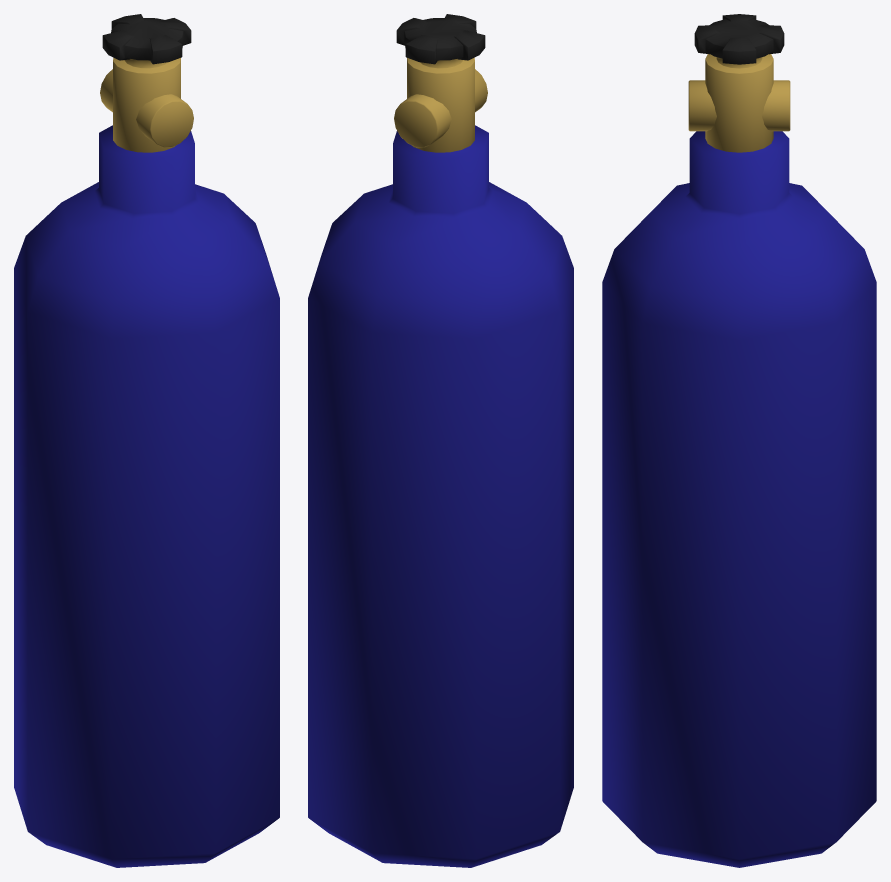
File: O2Tank.fbx
3 renders of one model, left to right at view 1: azimuth 30°, elevation 25°; view 2: azimuth 150°, elevation 25°; view 3: azimuth 270°, elevation 25°, orthographic.
Visible parts, largest first — view 1: Cylinder, Cylinder.001, Cylinder.002; view 2: Cylinder, Cylinder.001, Cylinder.002; view 3: Cylinder, Cylinder.001, Cylinder.002.
Part boxes in pixels (box(x1,y1,x2,y2)): Cylinder: box(14, 125, 279, 867); Cylinder.001: box(102, 14, 191, 152); Cylinder.002: box(100, 69, 193, 147); Cylinder: box(308, 125, 573, 867); Cylinder.001: box(396, 14, 485, 152); Cylinder.002: box(394, 69, 487, 147); Cylinder: box(602, 131, 876, 867); Cylinder.001: box(694, 14, 784, 152); Cylinder.002: box(688, 80, 790, 131).
Size of the model in its own units: 80 by 80 by 254.
